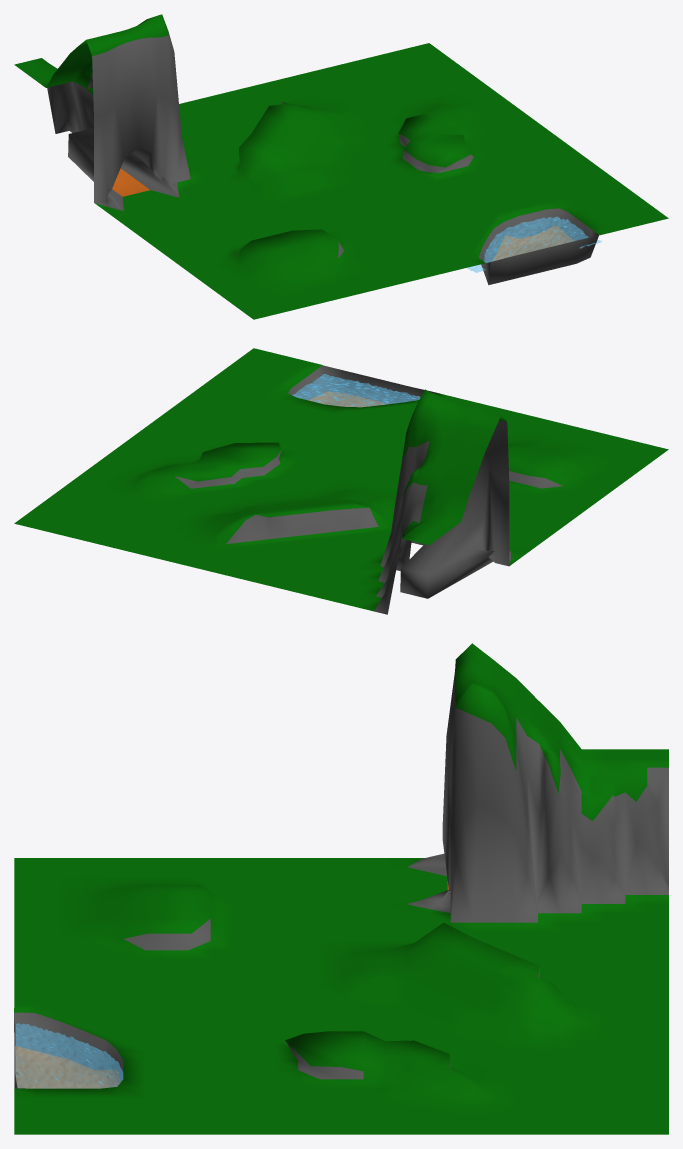
Rendered from ForestGround.FBX.
The picture shows the model from 3 angles, top to bottom: view 1: azimuth 30°, elevation 25°; view 2: azimuth 150°, elevation 25°; view 3: azimuth 270°, elevation 25°; orthographic projection. The views are drawn at different scales.
Visible parts, largest first — view 1: Plane001, Plane002; view 2: Plane001, Plane002; view 3: Plane001, Plane002.
Boxes of the visible parts, <box> form: Plane001: <box>14,14,668,319</box>; Plane002: <box>467,216,601,272</box>; Plane001: <box>14,348,668,614</box>; Plane002: <box>292,374,420,407</box>; Plane001: <box>14,643,668,1134</box>; Plane002: <box>16,1023,123,1088</box>.
Size of the model in its own units: 100 by 43.06 by 100.
